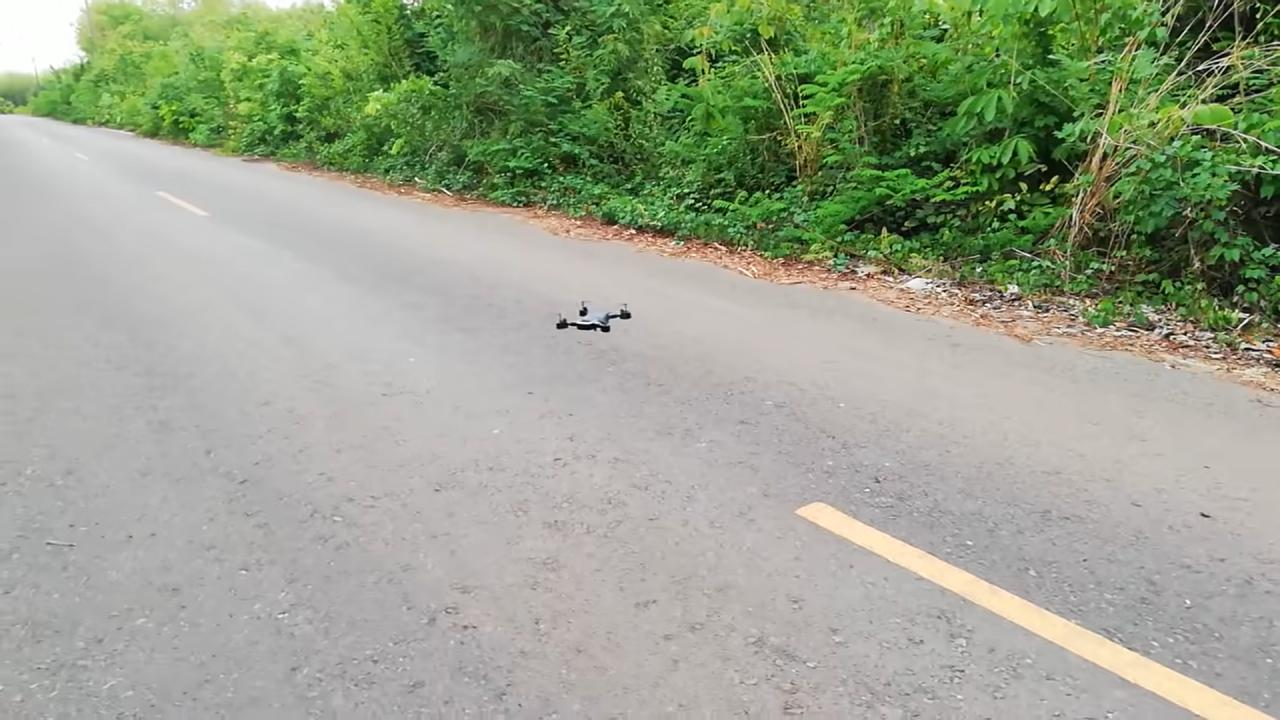Drone: (544, 290, 645, 344)
